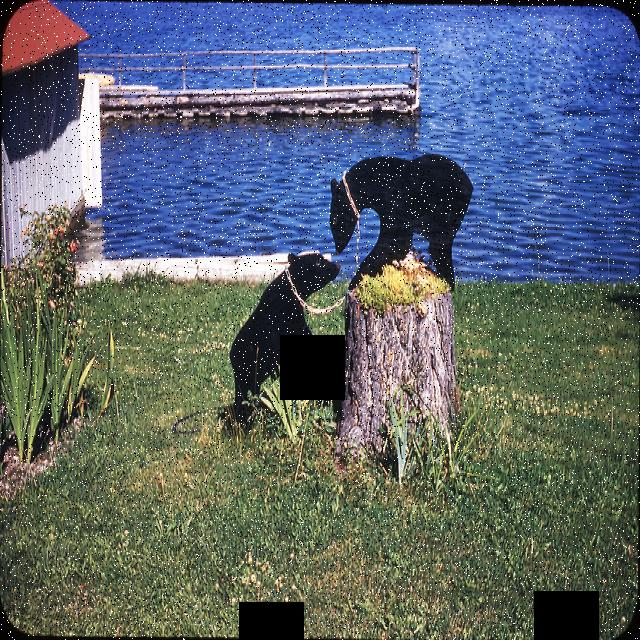Bear: (318, 144, 488, 299), (228, 239, 346, 426)
